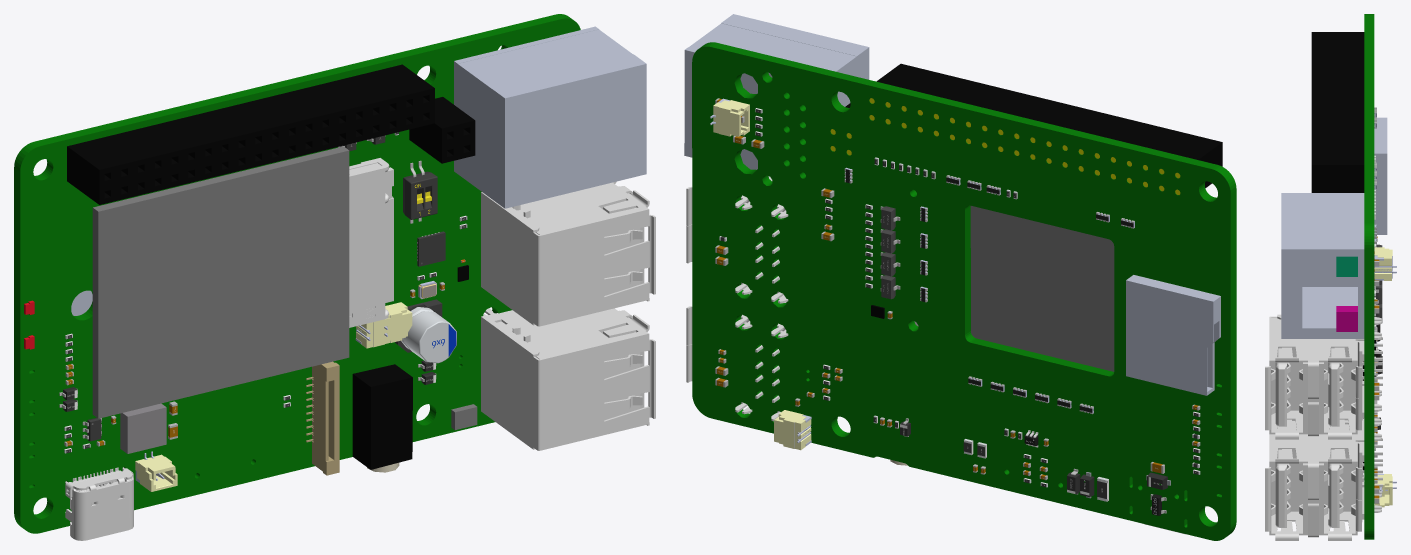
The model's file is luckfox-pico-pi.glb.
3 renders of one model, left to right at view 1: azimuth 30°, elevation 25°; view 2: azimuth 150°, elevation 25°; view 3: azimuth 270°, elevation 25°, orthographic. The views are drawn at different scales.
Visible parts, largest first — view 1: =>[0:1:1:2] (×30), =>[0:1:1:188] (×2), =>[0:1:1:170], =>[0:1:1:218], =>[0:1:1:339], \X2\51F853F0\X0\-\X2\62C94F38\X0\4_1_2, CSW1_27-SMD-2P-913, =>[0:1:1:32]; view 2: =>[0:1:1:2] (×8), =>[0:1:1:188] (×2), PIN_1_MARK_1; view 3: =>[0:1:1:2] (×29), =>[0:1:1:188] (×2), PIN_1_MARK_1 (×3).
Boxes of the visible parts, x1,y1,x2,y2 form: =>[0:1:1:2] (×30): (14, 14, 646, 533); =>[0:1:1:188] (×2): (481, 181, 655, 450); =>[0:1:1:170]: (349, 158, 393, 327); =>[0:1:1:218]: (65, 467, 133, 540); =>[0:1:1:339]: (306, 361, 339, 475); \X2\51F853F0\X0\-\X2\62C94F38\X0\4_1_2: (395, 299, 456, 363); CSW1_27-SMD-2P-913: (403, 171, 437, 219); =>[0:1:1:32]: (417, 231, 445, 266); =>[0:1:1:2] (×8): (684, 14, 1236, 540); =>[0:1:1:188] (×2): (686, 176, 788, 421); PIN_1_MARK_1: (713, 100, 749, 129); =>[0:1:1:2] (×29): (1281, 14, 1387, 539); =>[0:1:1:188] (×2): (1265, 314, 1382, 540); PIN_1_MARK_1 (×3): (1374, 247, 1392, 507).
Size of the model in its own units: 0.0879 by 0.0571 by 0.0212.
